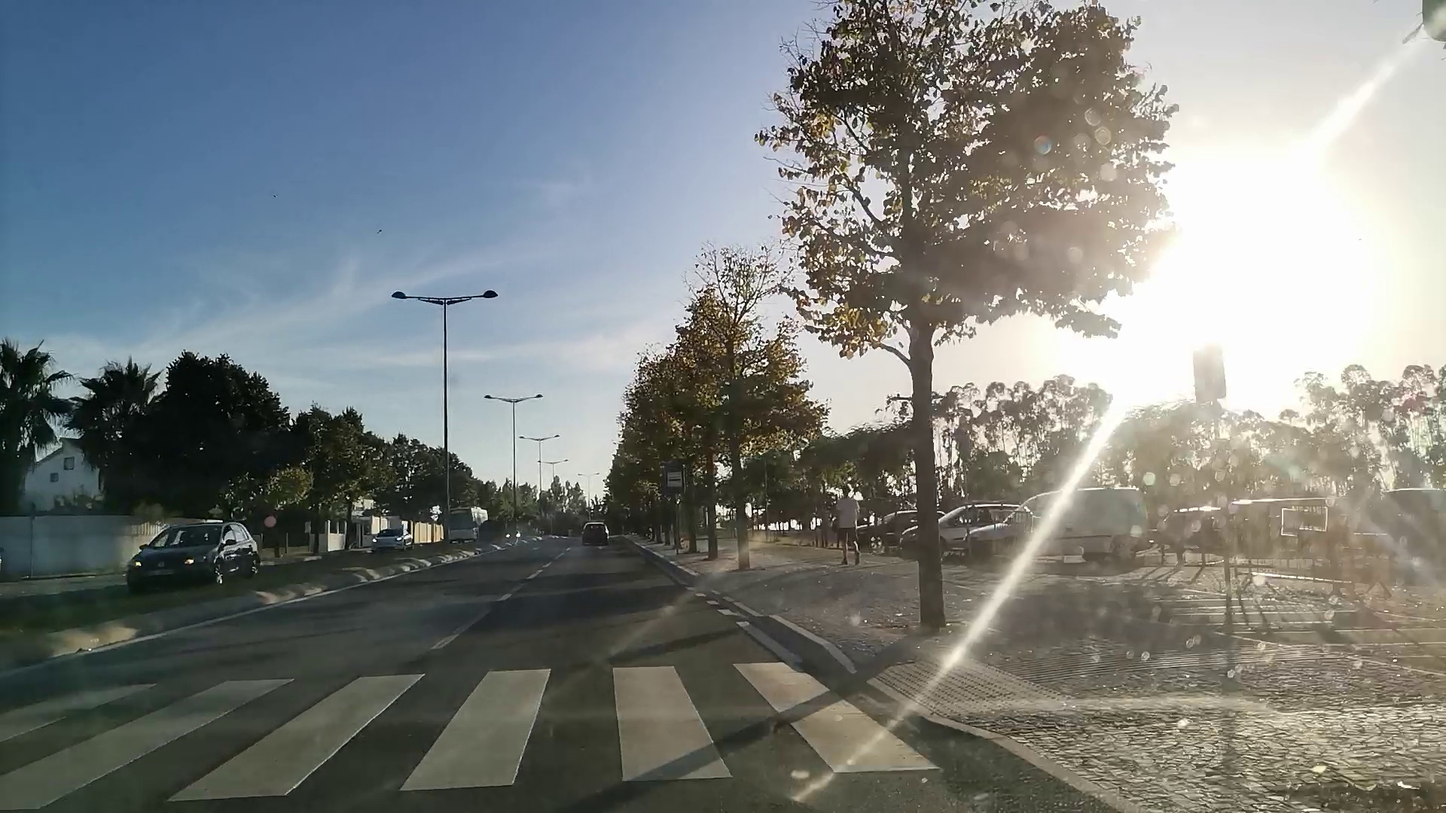Stairs: (10, 665, 944, 813)
